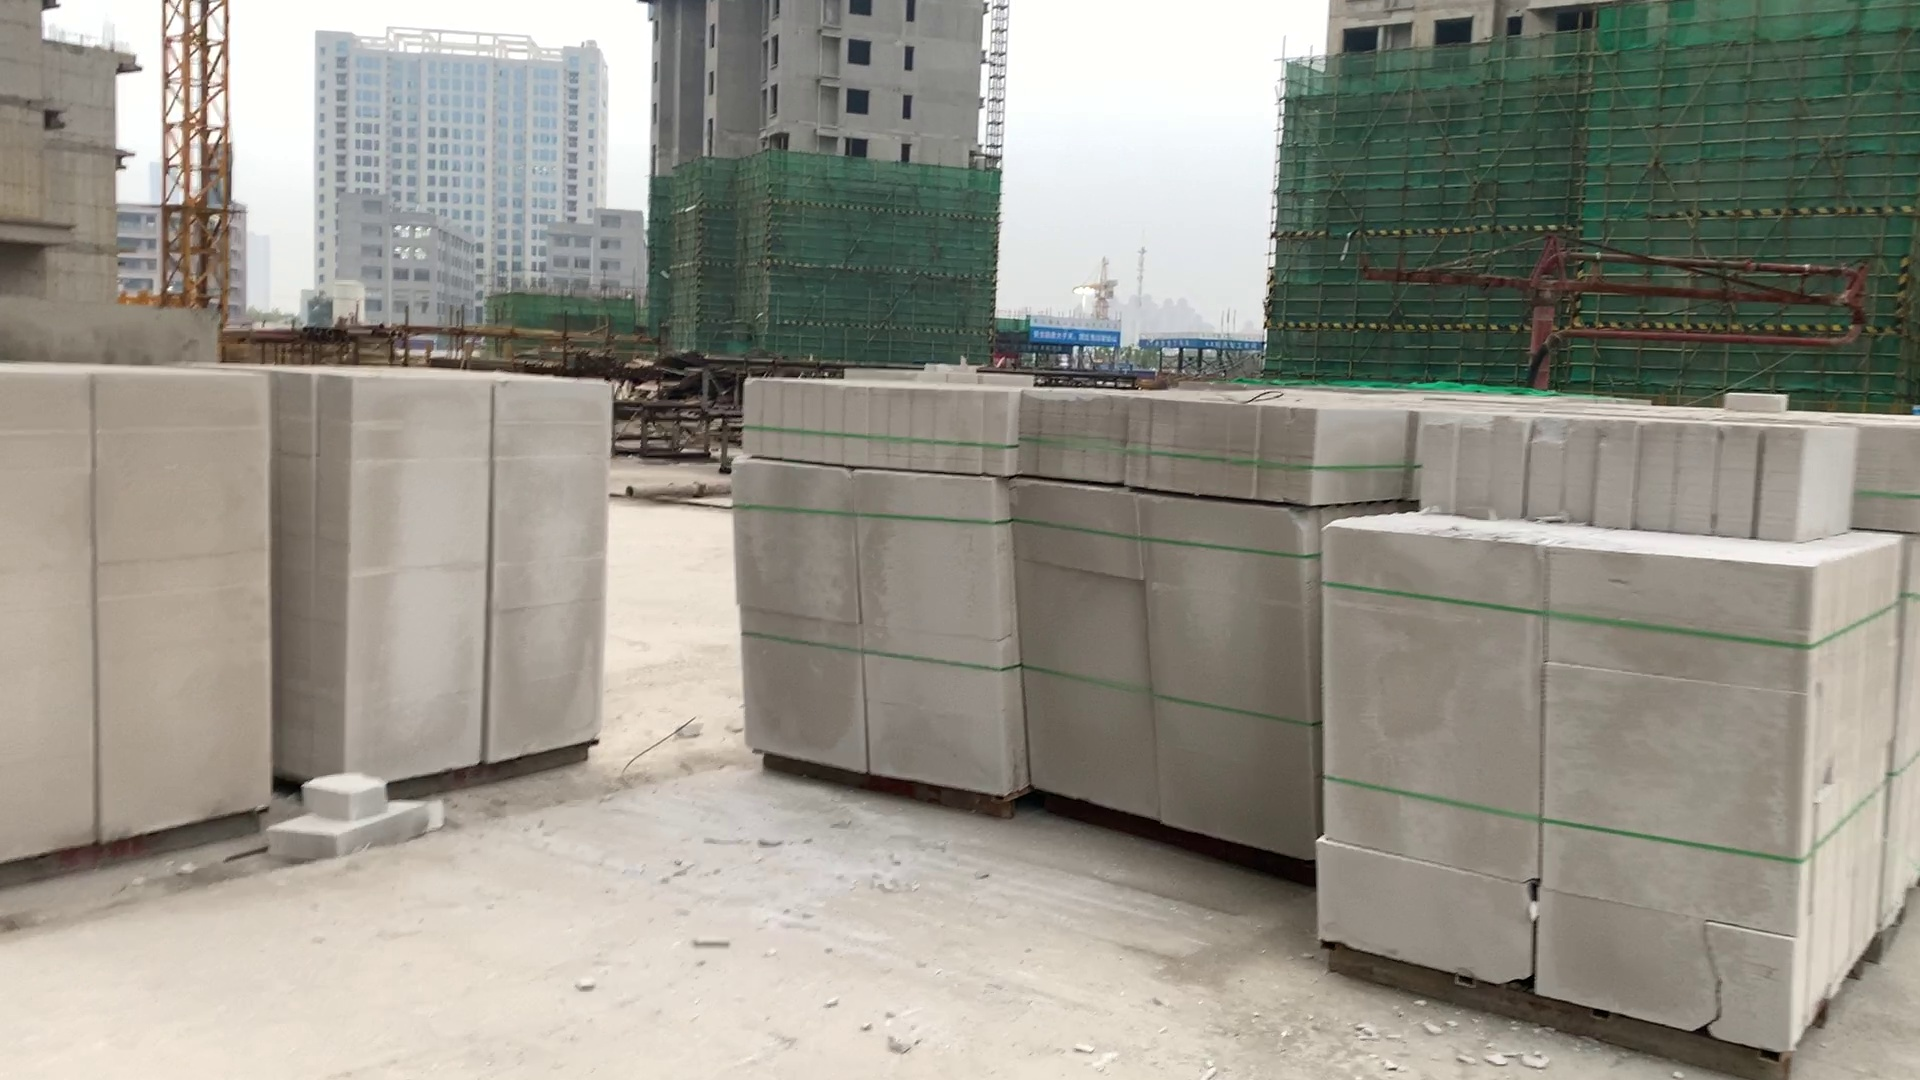brickwork: (1331, 404, 1887, 1062), (1019, 392, 1320, 862), (4, 375, 280, 873), (735, 373, 1018, 804), (302, 371, 603, 777)
